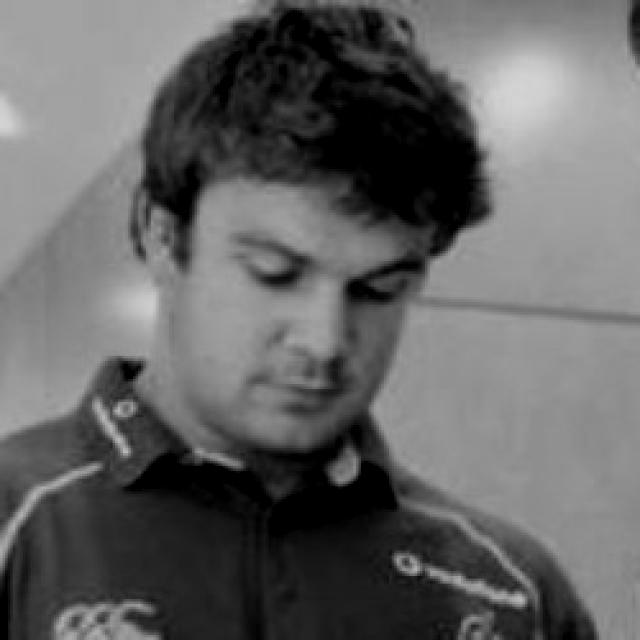real: (178, 164, 431, 460), (224, 226, 417, 314)
